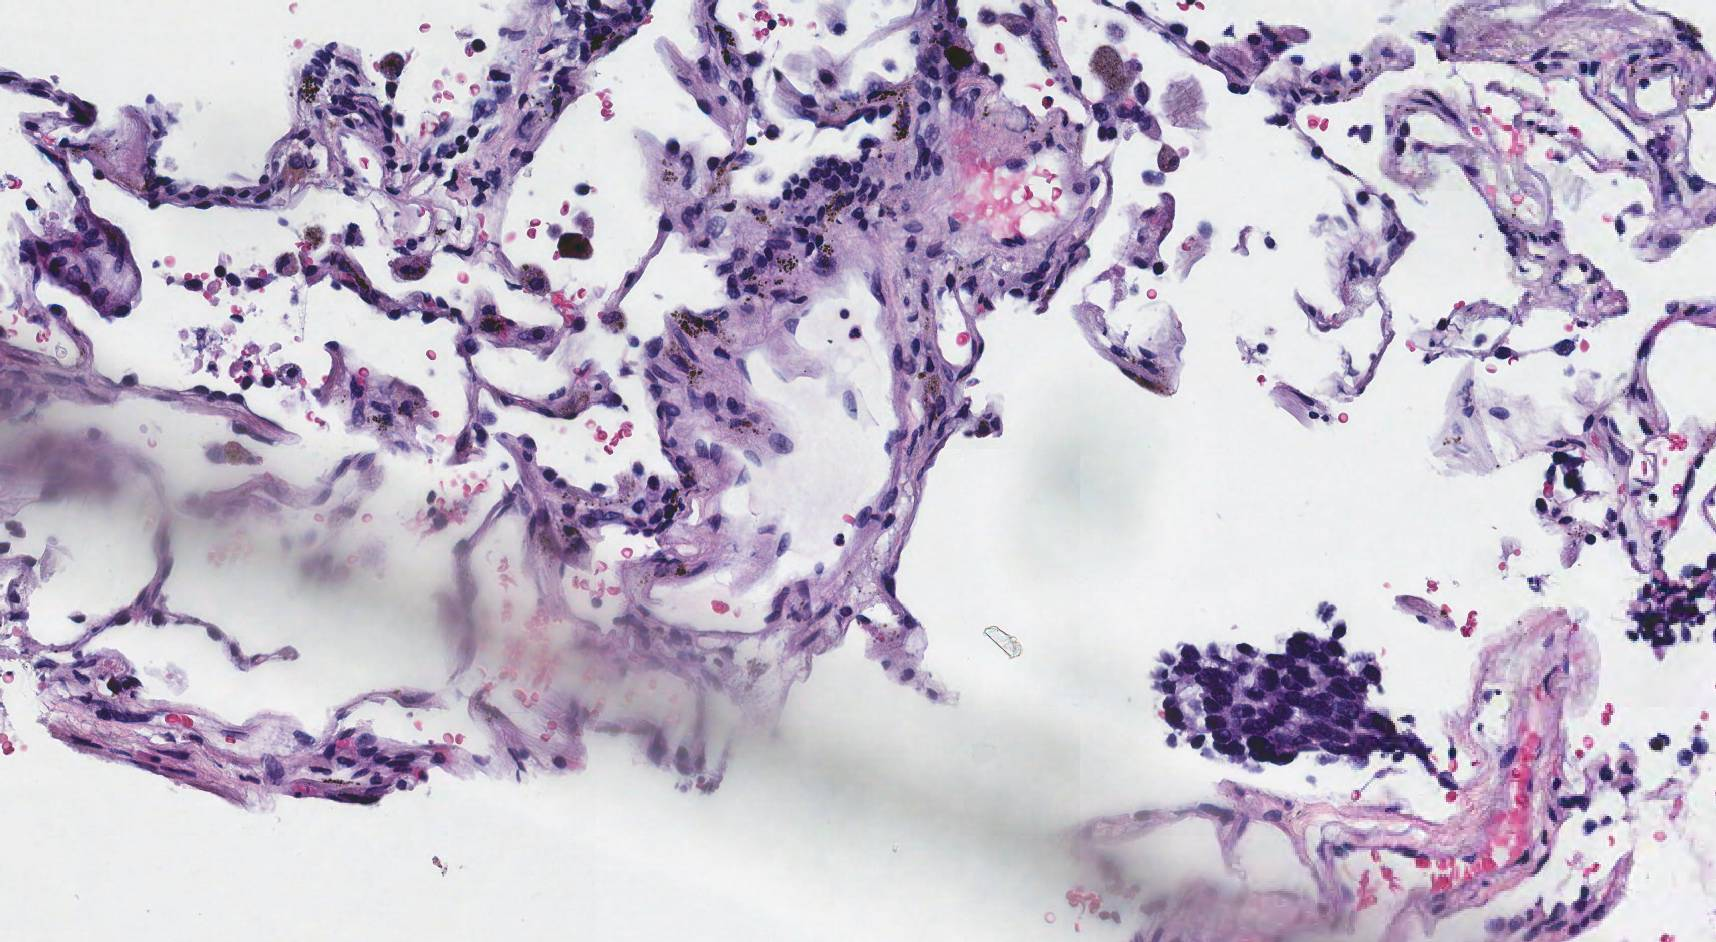stas: (1150, 629, 1439, 777)
